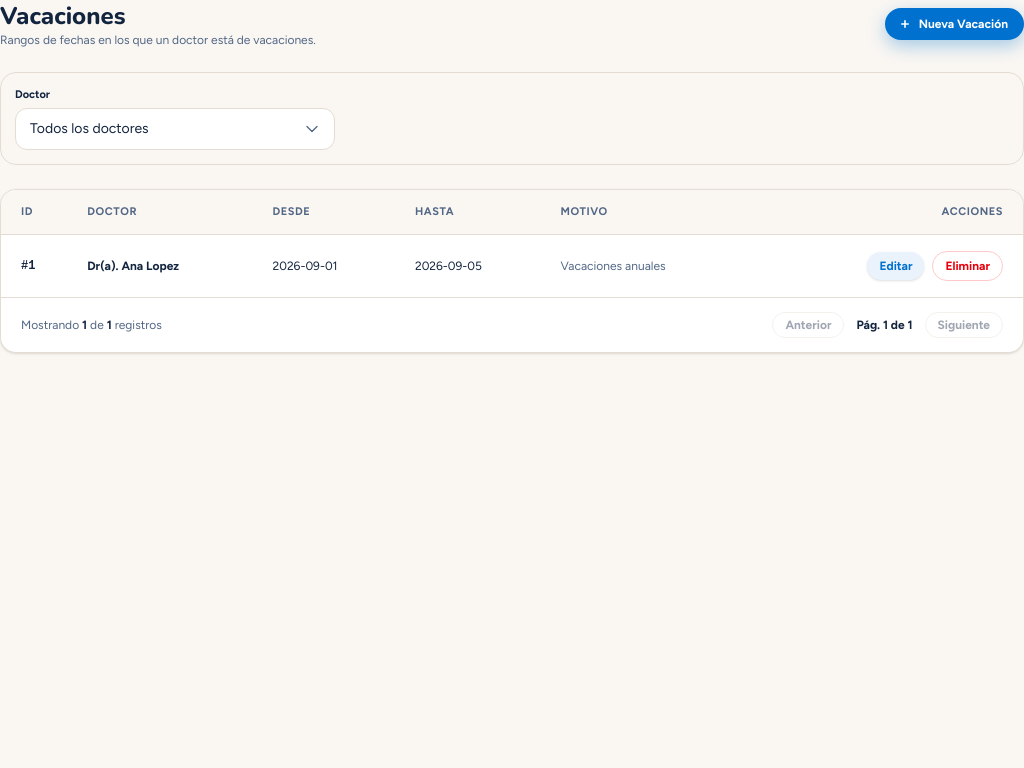
Test: TimeOffListComponent › edits a time-off and reloads the list
The image size is (1024, 768).
Step 1. Click the button "Editar" → (896, 266), box [867,252,924,280]
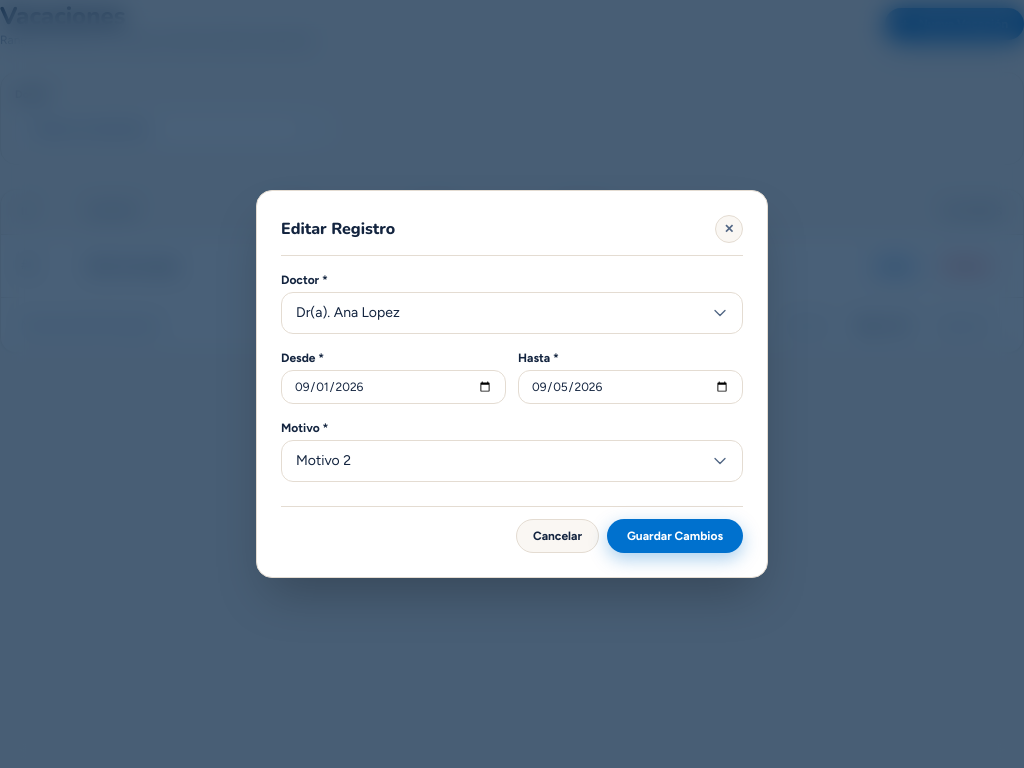
Step 2. Type "2026-09-10" into the date field with id "timeOffEndDate" → (630, 387), box [518,370,743,404]
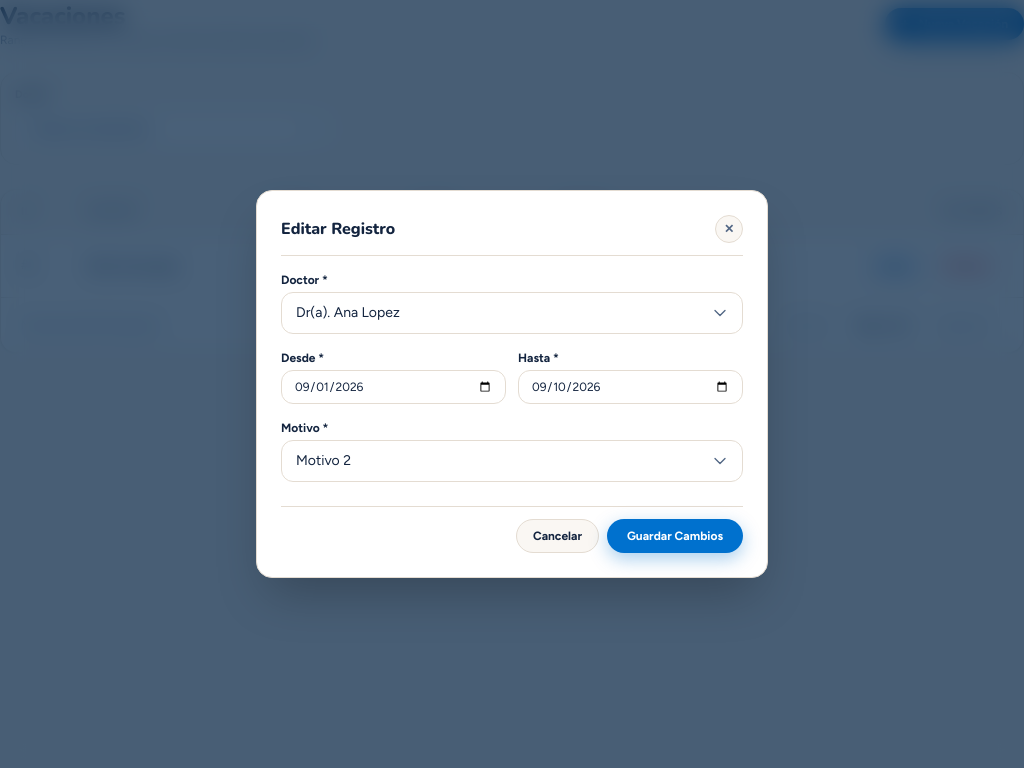
Step 3. Submit the form, box [281,272,743,553]
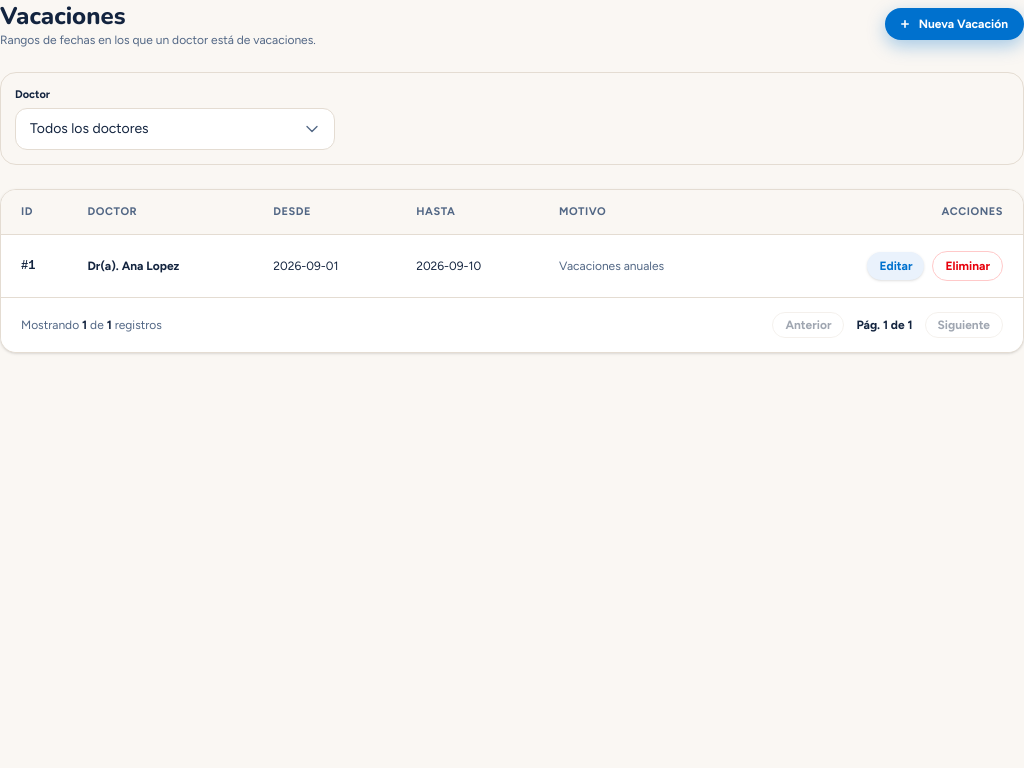
Check: the text "2026-09-10" is shown, box [404,234,547,297]
